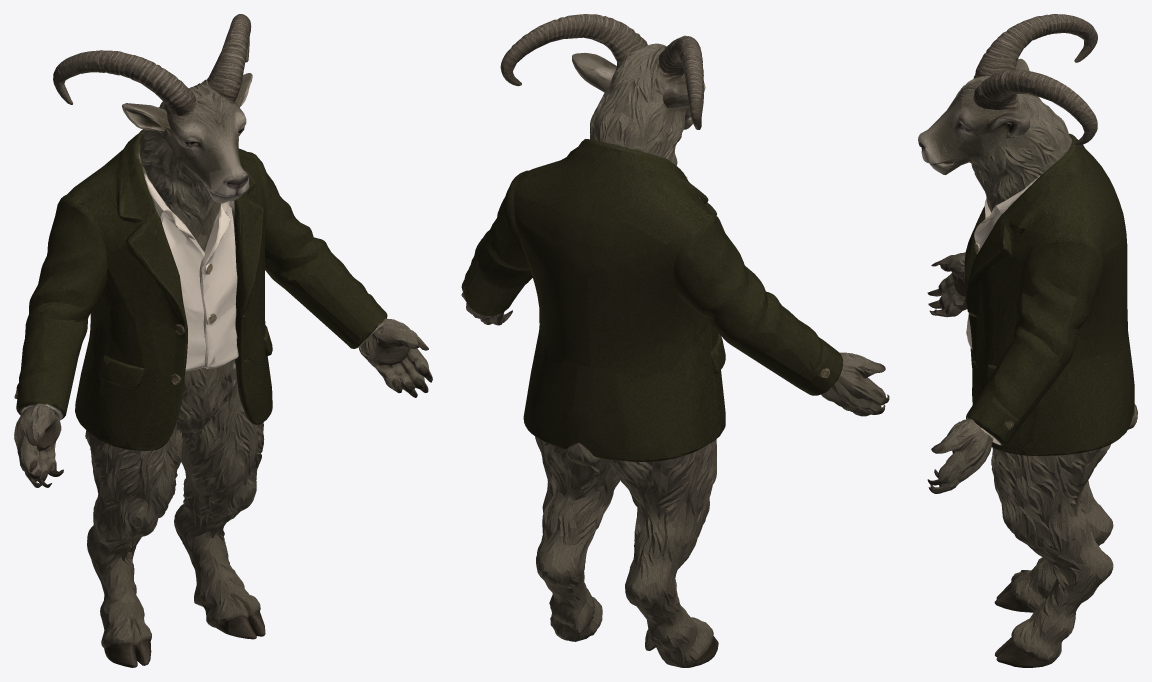
File: kaya-mesh.glb
The picture shows the model from 3 angles, left to right: view 1: azimuth 30°, elevation 25°; view 2: azimuth 150°, elevation 25°; view 3: azimuth 270°, elevation 25°; orthographic projection. The views are drawn at different scales.
Parts seen in each view (by area): view 1: Mesh_0; view 2: Mesh_0; view 3: Mesh_0.
Part boxes in pixels (left/top/right/bottom): Mesh_0: left=14, top=14, right=432, bottom=667; Mesh_0: left=461, top=14, right=889, bottom=667; Mesh_0: left=918, top=14, right=1137, bottom=667.
Bounding box in the file's own units: 1.34 × 1.9 × 0.6438.
Materials: 1 (1 with a texture image).
